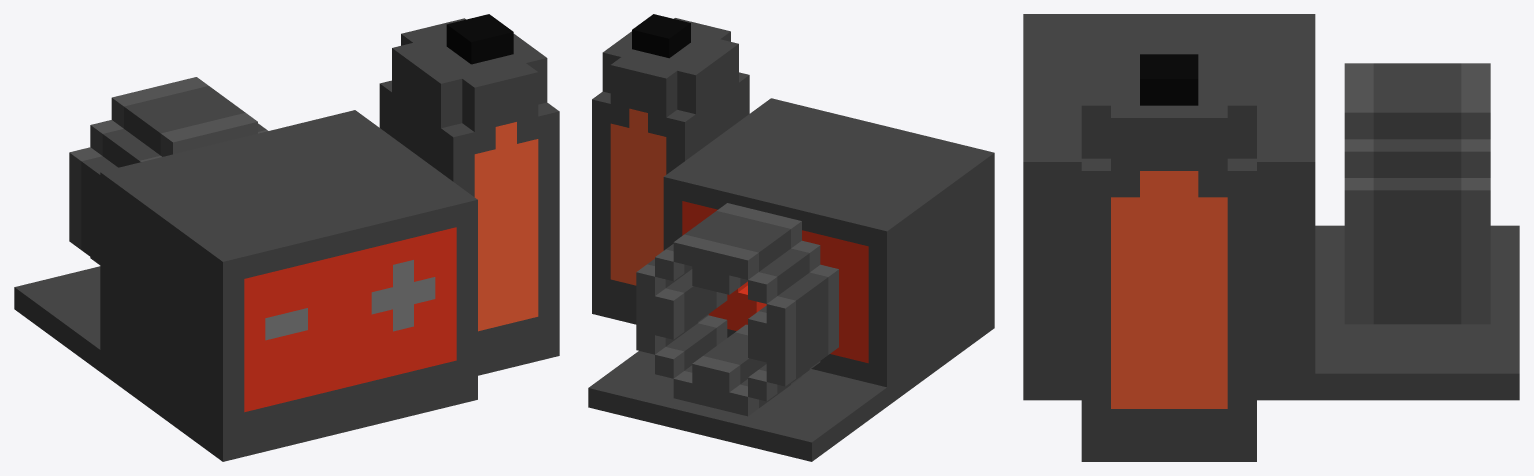
File: генератор без крутящего елемента.obj
3 renders of one model, left to right at view 1: azimuth 30°, elevation 25°; view 2: azimuth 150°, elevation 25°; view 3: azimuth 270°, elevation 25°, orthographic. The views are drawn at different scales.
Size of the model in its own units: 1.7 by 1.4 by 1.7.
Materials: 1 (1 with a texture image).
